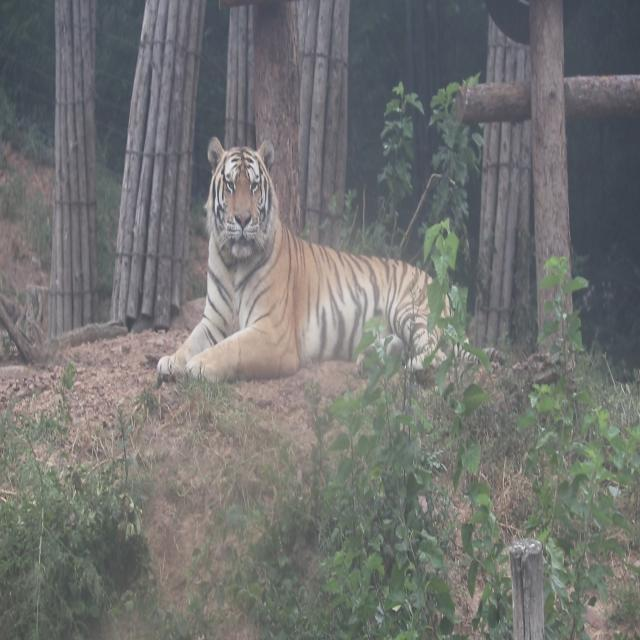Tiger: (151, 122, 487, 394)
